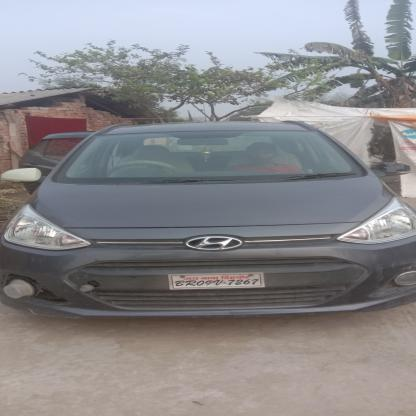Number_Plate_Detected: (162, 272, 268, 288)
